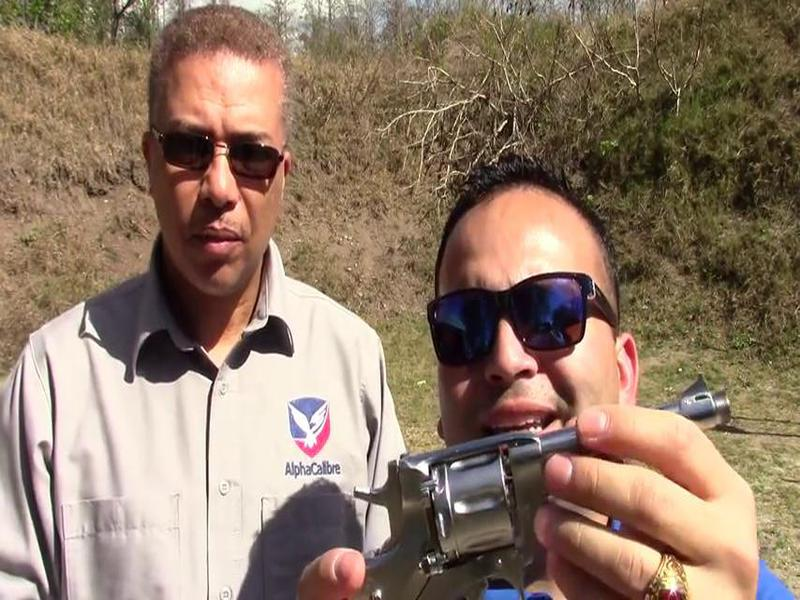Revolver: (348, 364, 725, 600)
